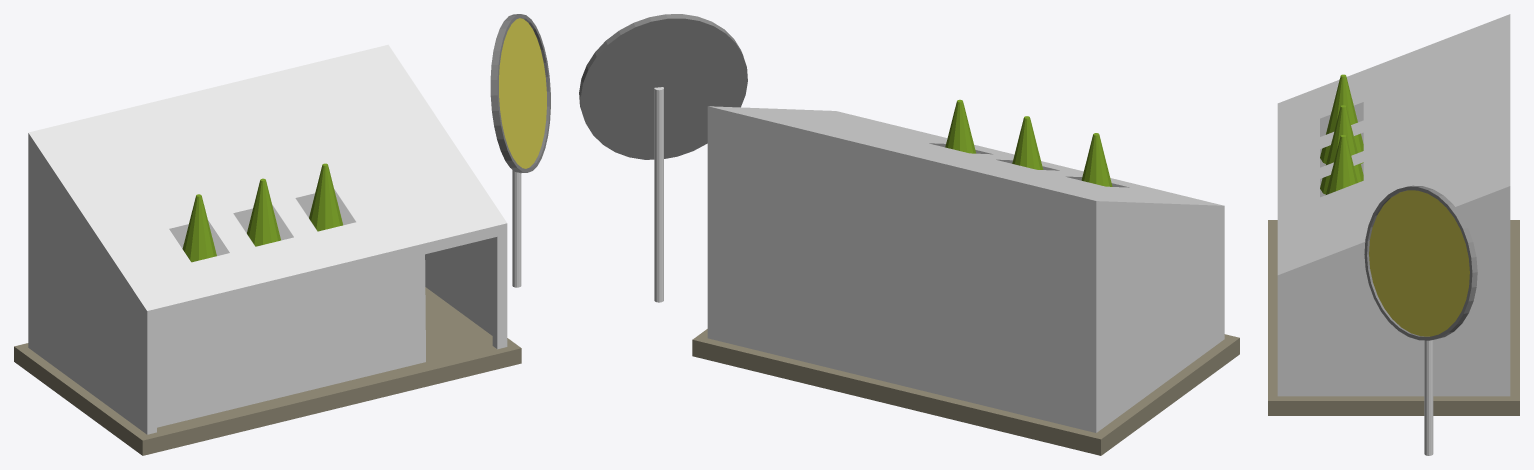
The model's file is mealdo_1.gltf.
3 views of the same model, side by side, from view 1: azimuth 30°, elevation 25°; view 2: azimuth 150°, elevation 25°; view 3: azimuth 270°, elevation 25° (orthographic). The views are drawn at different scales.
Visible parts, largest first — view 1: Cube, Cube.002, Cylinder, Cylinder.002, Cylinder.001; view 2: Cube, Cylinder, Cube.002, Cylinder.002, Cylinder.001; view 3: Cube, Cylinder, Cube.002, Cylinder.002, Cylinder.001.
Boxes of the visible parts, box(x1,y1,x2,y2) form: Cube: box(28, 44, 507, 434); Cube.002: box(14, 287, 521, 455); Cylinder: box(490, 14, 550, 173); Cylinder.002: box(182, 163, 342, 262); Cylinder.001: box(512, 170, 521, 287); Cube: box(707, 106, 1224, 432); Cylinder: box(579, 14, 747, 159); Cube.002: box(692, 329, 1239, 455); Cylinder.002: box(945, 99, 1112, 186); Cylinder.001: box(654, 87, 663, 302); Cube: box(1277, 14, 1510, 396); Cylinder: box(1364, 185, 1477, 340); Cube.002: box(1268, 220, 1519, 415); Cylinder.002: box(1320, 74, 1363, 194); Cylinder.001: box(1424, 340, 1433, 455).
Bounding box in the file's own units: 9.89 × 4.95 × 4.33.
